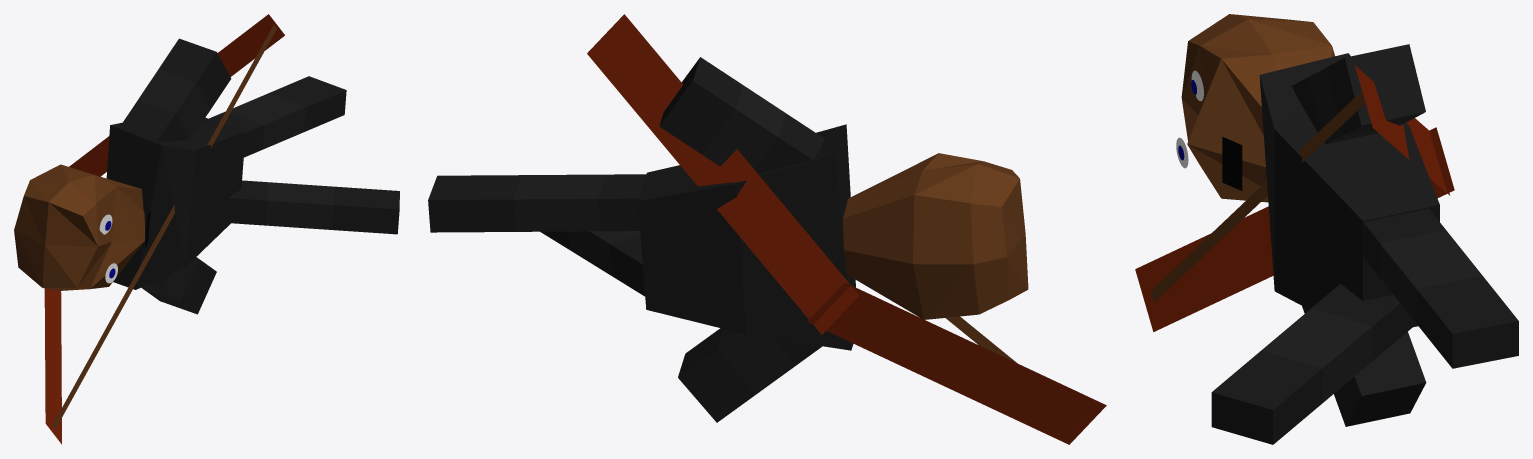
The model's file is heavyarcher3d.obj.
3 views of the same model, side by side, from view 1: azimuth 30°, elevation 25°; view 2: azimuth 150°, elevation 25°; view 3: azimuth 270°, elevation 25° (orthographic). The views are drawn at different scales.
Parts seen in each view (by area): view 1: Cube.001, Cube, Cube.004, Cube.002, Cube.005, Plane.001_Plane.002, Plane.002_Plane.003, Cube.003, Plane.003_Plane.004; view 2: Cube.001, Cube, Plane.001_Plane.002, Plane.002_Plane.003, Cube.005, Cube.002, Cube.003, Cube.004, Plane.003_Plane.004; view 3: Cube.001, Cube.004, Cube, Cube.005, Plane.002_Plane.003, Cube.002, Cube.003, Plane.003_Plane.004, Plane.001_Plane.002, Plane.
Boxes of the visible parts, x1=… form: Cube.001: x1=106, y1=117, x2=245, y2=289; Cube: x1=14, y1=164, x2=144, y2=290; Cube.004: x1=226, y1=180, x2=399, y2=234; Cube.002: x1=121, y1=38, x2=231, y2=141; Cube.005: x1=209, y1=76, x2=346, y2=157; Plane.001_Plane.002: x1=69, y1=14, x2=284, y2=176; Plane.002_Plane.003: x1=44, y1=288, x2=61, y2=444; Cube.003: x1=141, y1=257, x2=216, y2=314; Plane.003_Plane.004: x1=52, y1=24, x2=276, y2=429; Cube.001: x1=638, y1=124, x2=855, y2=350; Cube: x1=843, y1=153, x2=1028, y2=319; Plane.001_Plane.002: x1=587, y1=14, x2=859, y2=334; Plane.002_Plane.003: x1=807, y1=282, x2=1106, y2=444; Cube.005: x1=428, y1=174, x2=646, y2=232; Cube.002: x1=659, y1=57, x2=824, y2=173; Cube.003: x1=678, y1=328, x2=822, y2=422; Cube.004: x1=540, y1=231, x2=645, y2=296; Plane.003_Plane.004: x1=946, y1=316, x2=1084, y2=425; Cube.001: x1=1259, y1=53, x2=1439, y2=327; Cube.004: x1=1211, y1=284, x2=1415, y2=444; Cube: x1=1181, y1=14, x2=1334, y2=202; Cube.005: x1=1363, y1=208, x2=1518, y2=368; Plane.002_Plane.003: x1=1135, y1=127, x2=1454, y2=331; Cube.002: x1=1291, y1=44, x2=1425, y2=144; Cube.003: x1=1302, y1=306, x2=1426, y2=426; Plane.003_Plane.004: x1=1151, y1=91, x2=1364, y2=302; Plane.001_Plane.002: x1=1354, y1=65, x2=1450, y2=195; Plane: x1=1222, y1=136, x2=1242, y2=190.
Size of the model in its own units: 6.03 by 4.44 by 3.31.
